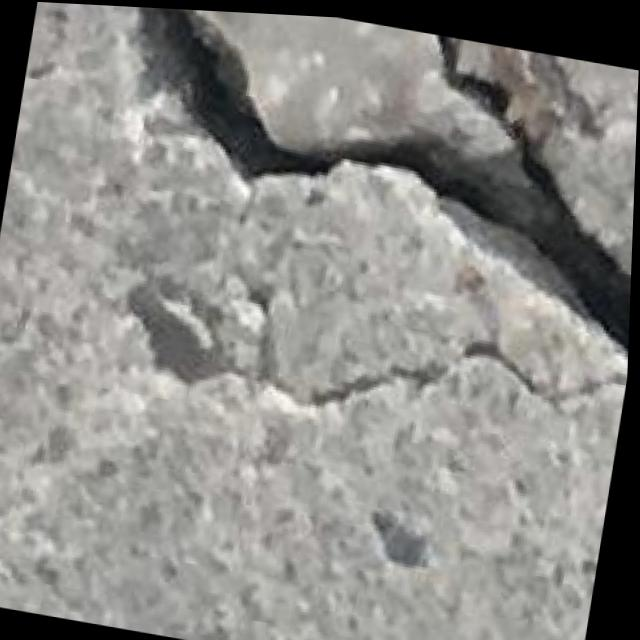Crack: (49, 3, 640, 470)
